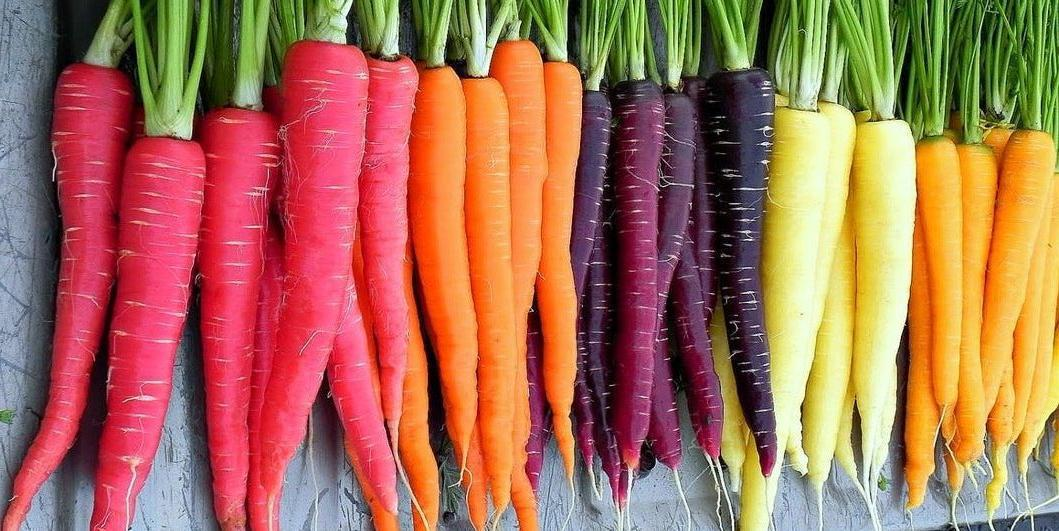carrot: (416, 62, 580, 531), (927, 131, 1059, 502)
